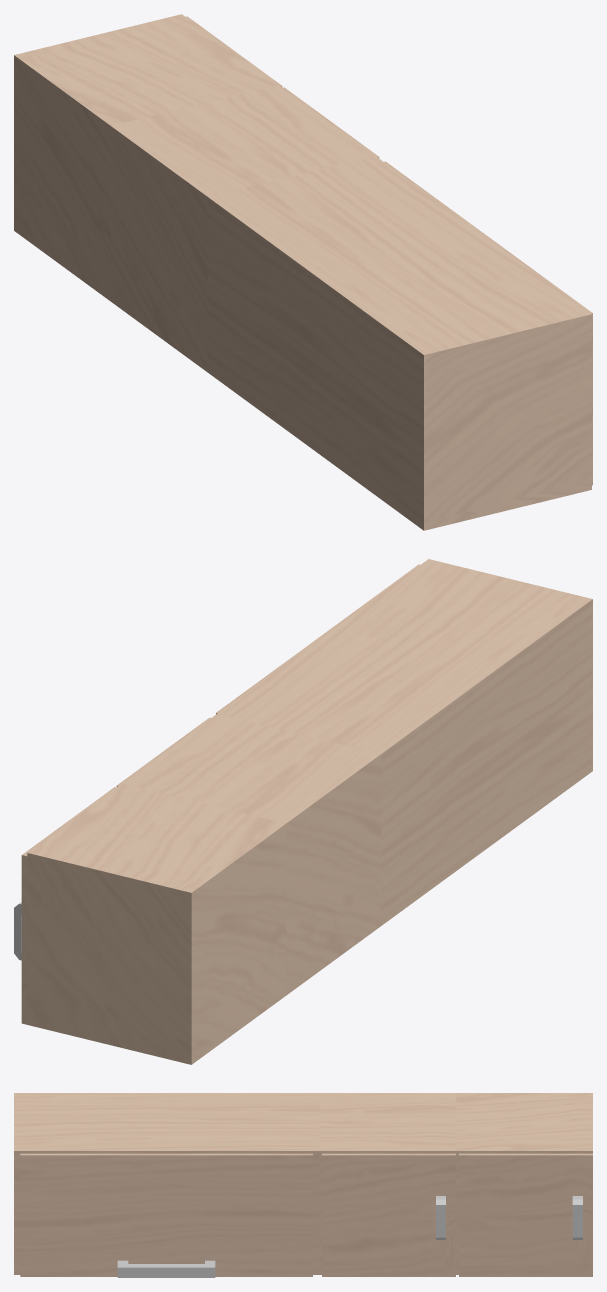
Rendered from armario_cozinha.fbx.
The picture shows the model from 3 angles, top to bottom: view 1: azimuth 30°, elevation 25°; view 2: azimuth 150°, elevation 25°; view 3: azimuth 270°, elevation 25°; orthographic projection. The views are drawn at different scales.
Parts seen in each view (by area): view 1: Cube.001, Cube; view 2: Cube, Cube.001; view 3: Cube.001, Cube.
Boxes of the visible parts, bbox=[...] form: Cube.001: bbox=[208, 156, 592, 530]; Cube: bbox=[14, 14, 379, 372]; Cube: bbox=[14, 714, 381, 1064]; Cube.001: bbox=[216, 559, 592, 925]; Cube.001: bbox=[14, 1093, 319, 1277]; Cube: bbox=[319, 1093, 592, 1276].
Size of the model in its own units: 2.31 by 2 by 8.46.
2 materials, 1 textured.
